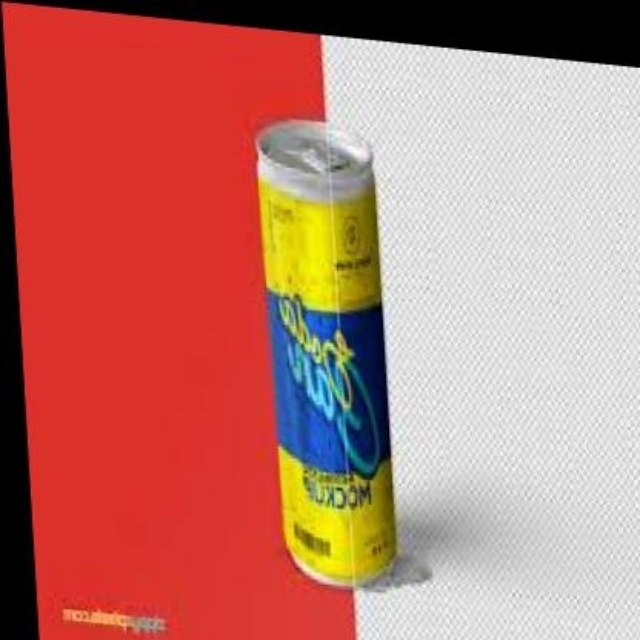trash: (257, 122, 394, 585)
